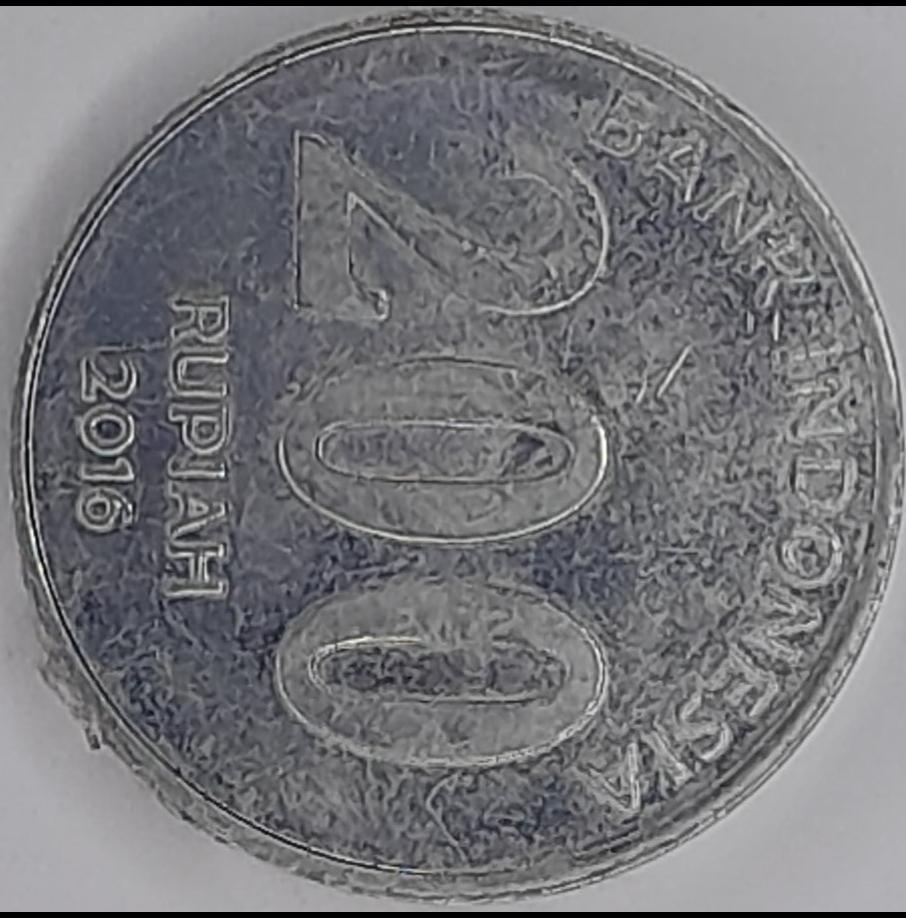coin_200_e2016: (0, 16, 906, 918)
